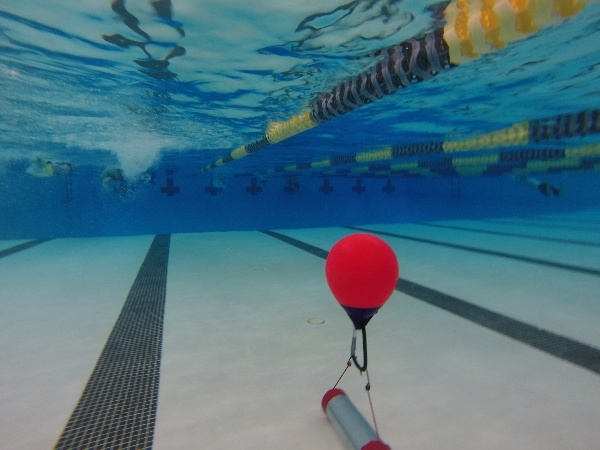buoy_red: (321, 232, 405, 333)
